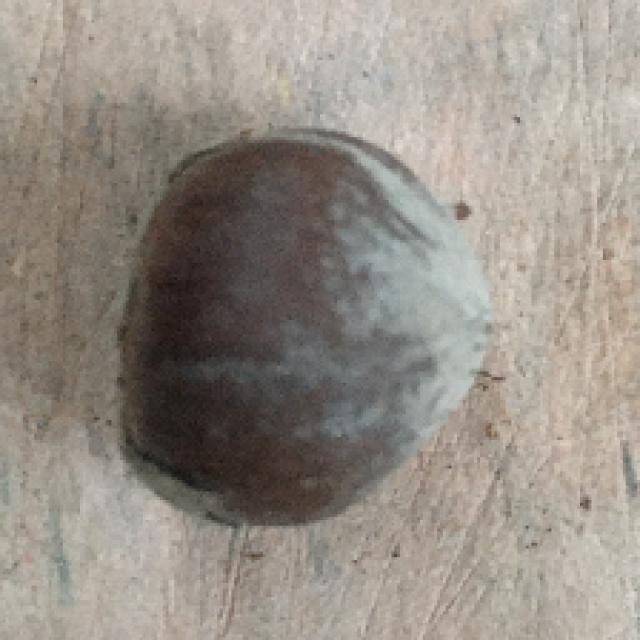damagedHazelnut: (97, 123, 507, 538)
